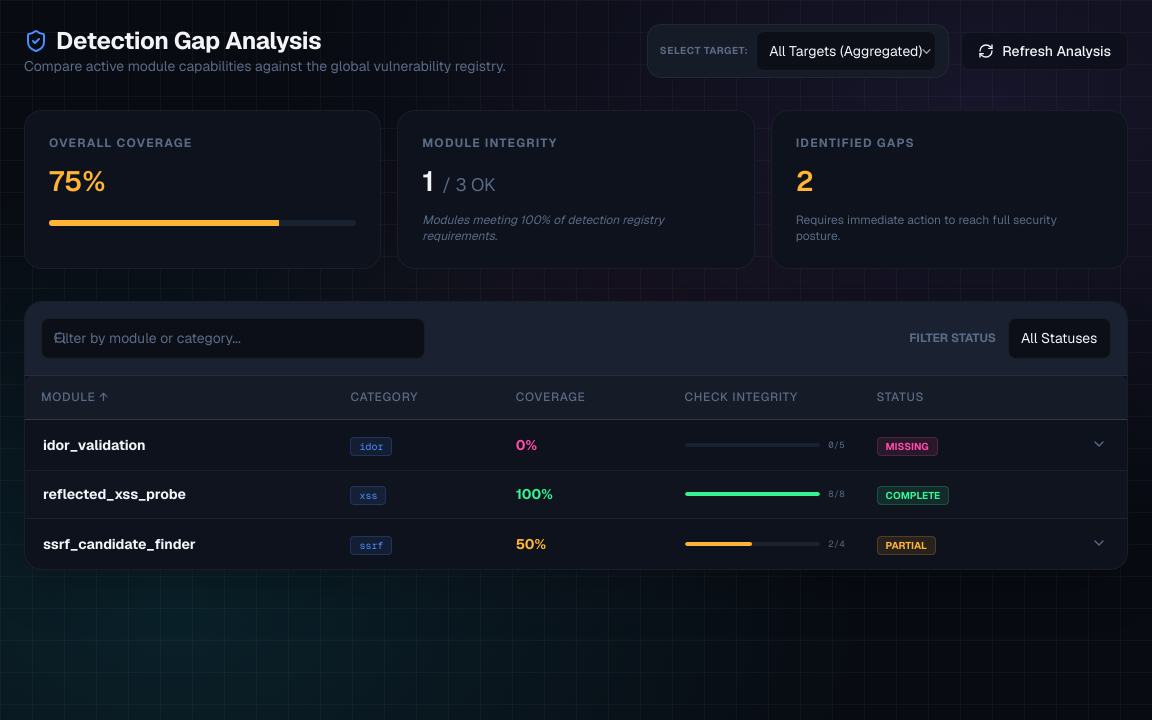
Scenario: GapAnalysisPage Component › filters rows based on status dropdown selection
This screenshot has width=1152, height=720.
Expected: the text "ssrf_candidate_finder" is shown, [43, 535, 196, 553]
Select "Complete" in the dropdown labelled "Filter Status" at (1060, 338), box [1008, 318, 1111, 359]
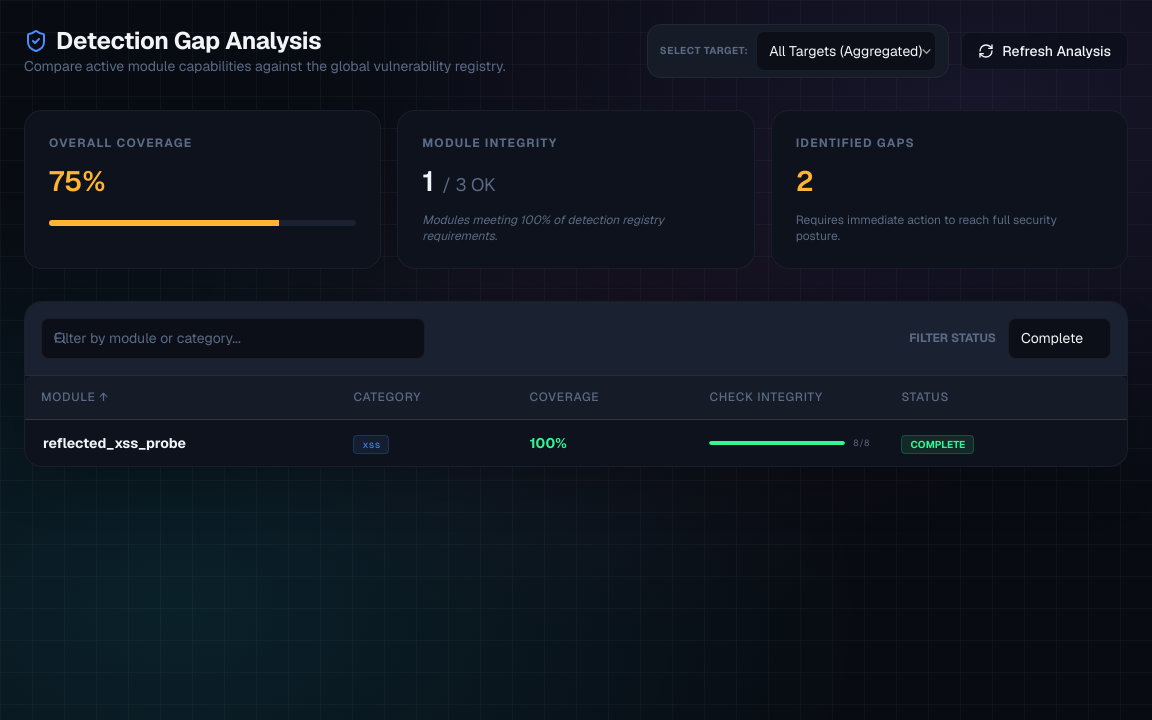
Expected: the text "reflected_xss_probe" is shown, [43, 434, 186, 452]
Expected: the text "ssrf_candidate_finder" is gone
Expected: the text "idor_validation" is gone
